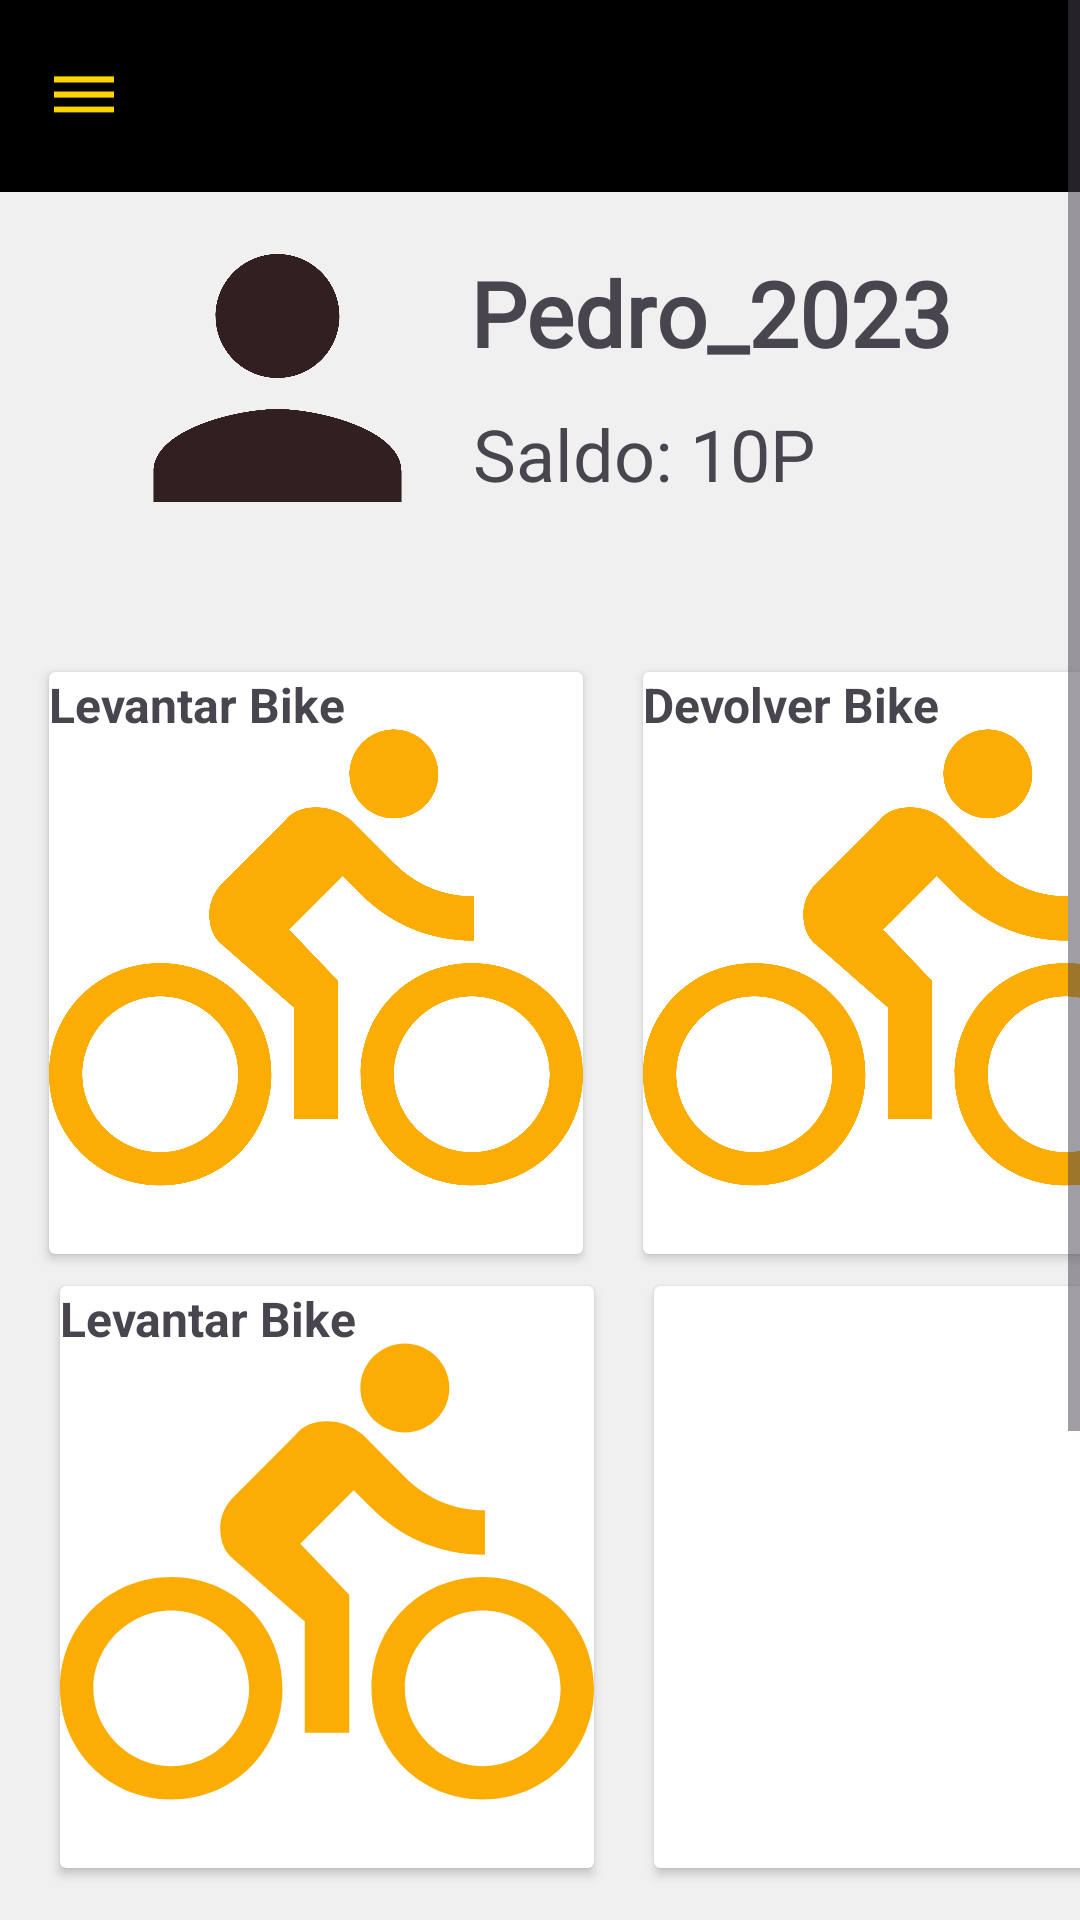

Icon click points for this 1080w x 1920h phone screenshot, format point (x, y):
user: point (277, 378)
